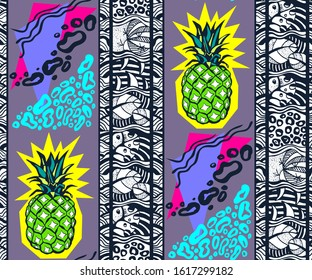fruit: (178, 18, 238, 125), (22, 150, 81, 257)
